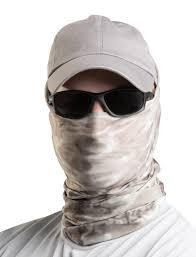cap: (45, 13, 161, 94)
scarf-kerchief: (46, 104, 167, 201)
sunglasses: (46, 85, 149, 122)
